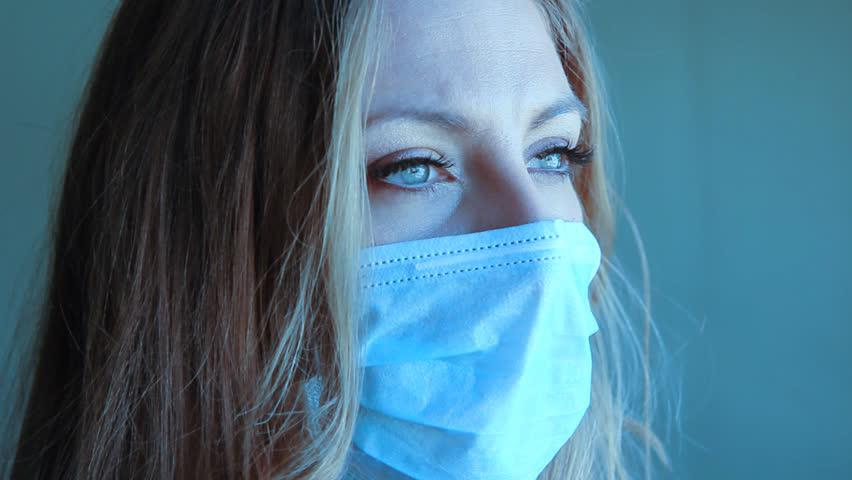mask: (293, 1, 590, 480)
